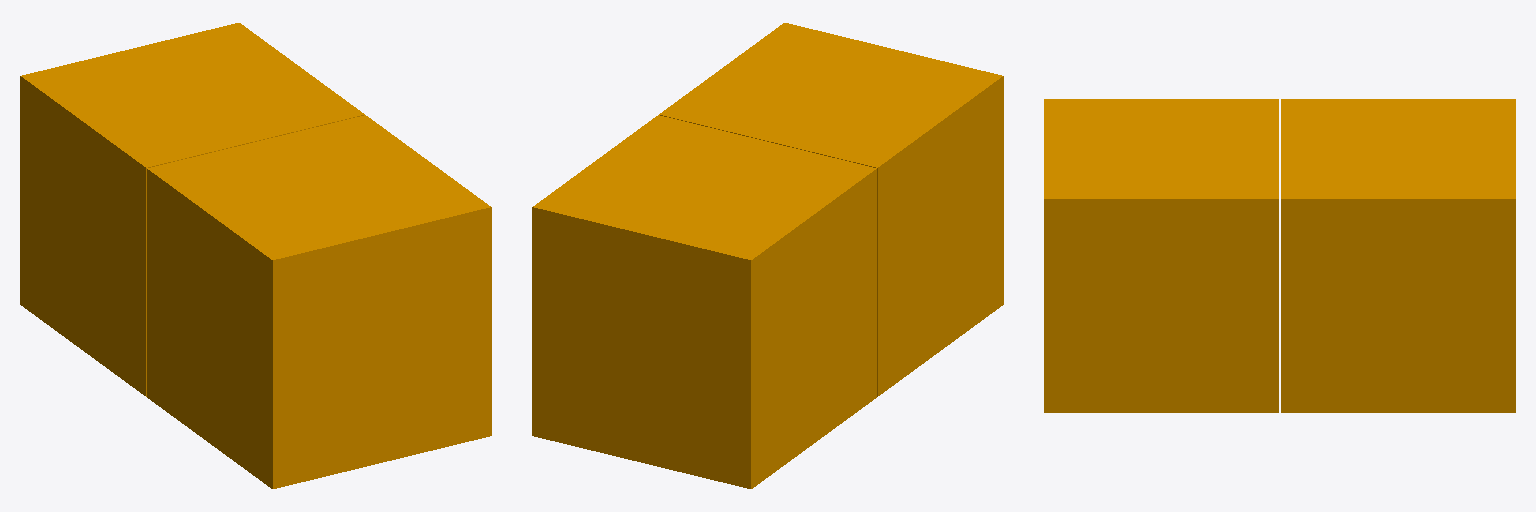
URDF robot description (glued_piece_2):
<?xml version="1.0"?>
<!-- Original Author: OpenAI Codex, 2026. One rigid link; local +Y is the glued bar axis. -->
<robot name="glued_piece_2"><link name="piece">
<inertial><mass value="0.2048"/><inertia ixx="0.0005461333333333333" ixy="0" ixz="0" iyy="0.00021845333333333334" iyz="0" izz="0.0005461333333333333"/></inertial>
<visual><origin xyz="0 -0.040000 0"/><geometry><box size="0.08 0.0796 0.08"/></geometry></visual>
<visual><origin xyz="0 0.040000 0"/><geometry><box size="0.08 0.0796 0.08"/></geometry></visual>
<collision><geometry><box size="0.08 0.16 0.08"/></geometry></collision>
</link></robot>

--- Facts derived from the render (not from the file) ---
Views: 3 orthographic renders of the robot side by side, from view 1: azimuth 30°, elevation 25°; view 2: azimuth 150°, elevation 25°; view 3: azimuth 270°, elevation 25°.
Robot: glued_piece_2 — 1 links, 0 joints (none); root link piece; default pose: all joints at 0.
Visible links, largest first — view 1: piece; view 2: piece; view 3: piece.
Boxes of the visible links, x1,y1,x2,y2 form: piece: (20,23,491,488); piece: (532,23,1003,488); piece: (1044,99,1515,412).
Size in the robot's own frame: 0.08 by 0.1596 by 0.08 metres.
Geometry: primitives only (box / cylinder / sphere), no mesh files.
